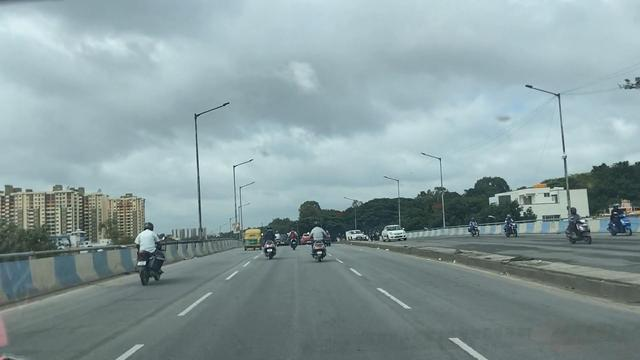LMV: (140, 223, 164, 285), (312, 224, 325, 263), (243, 228, 260, 247), (266, 229, 275, 258), (290, 229, 299, 248)
